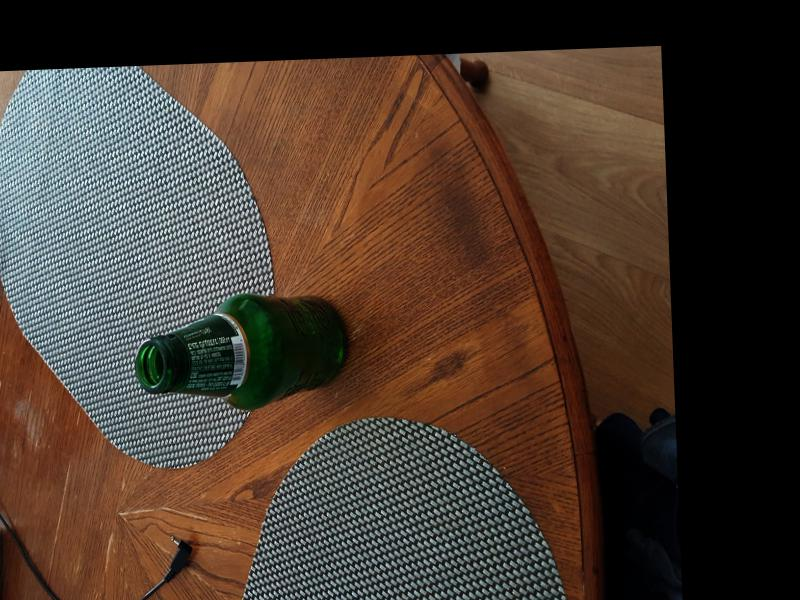Beer: (131, 291, 349, 410)
